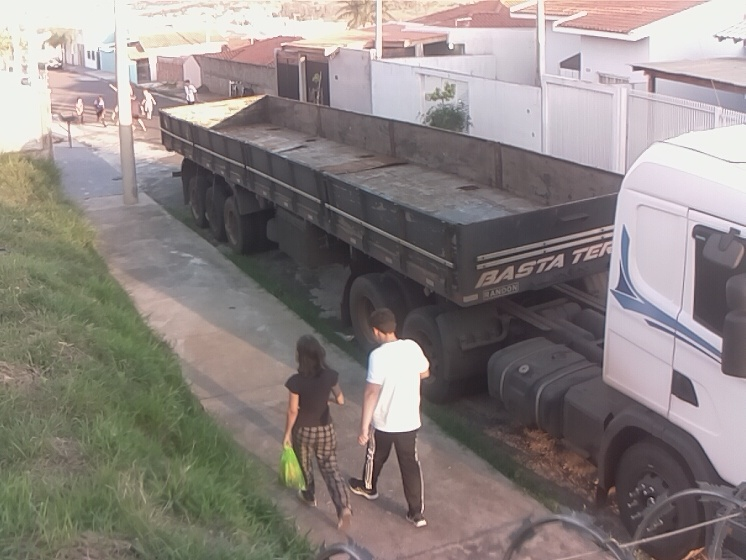person: (347, 306, 436, 529), (281, 333, 354, 533), (128, 95, 148, 133), (92, 95, 110, 128), (142, 88, 158, 121), (182, 78, 200, 105), (73, 96, 88, 126)
